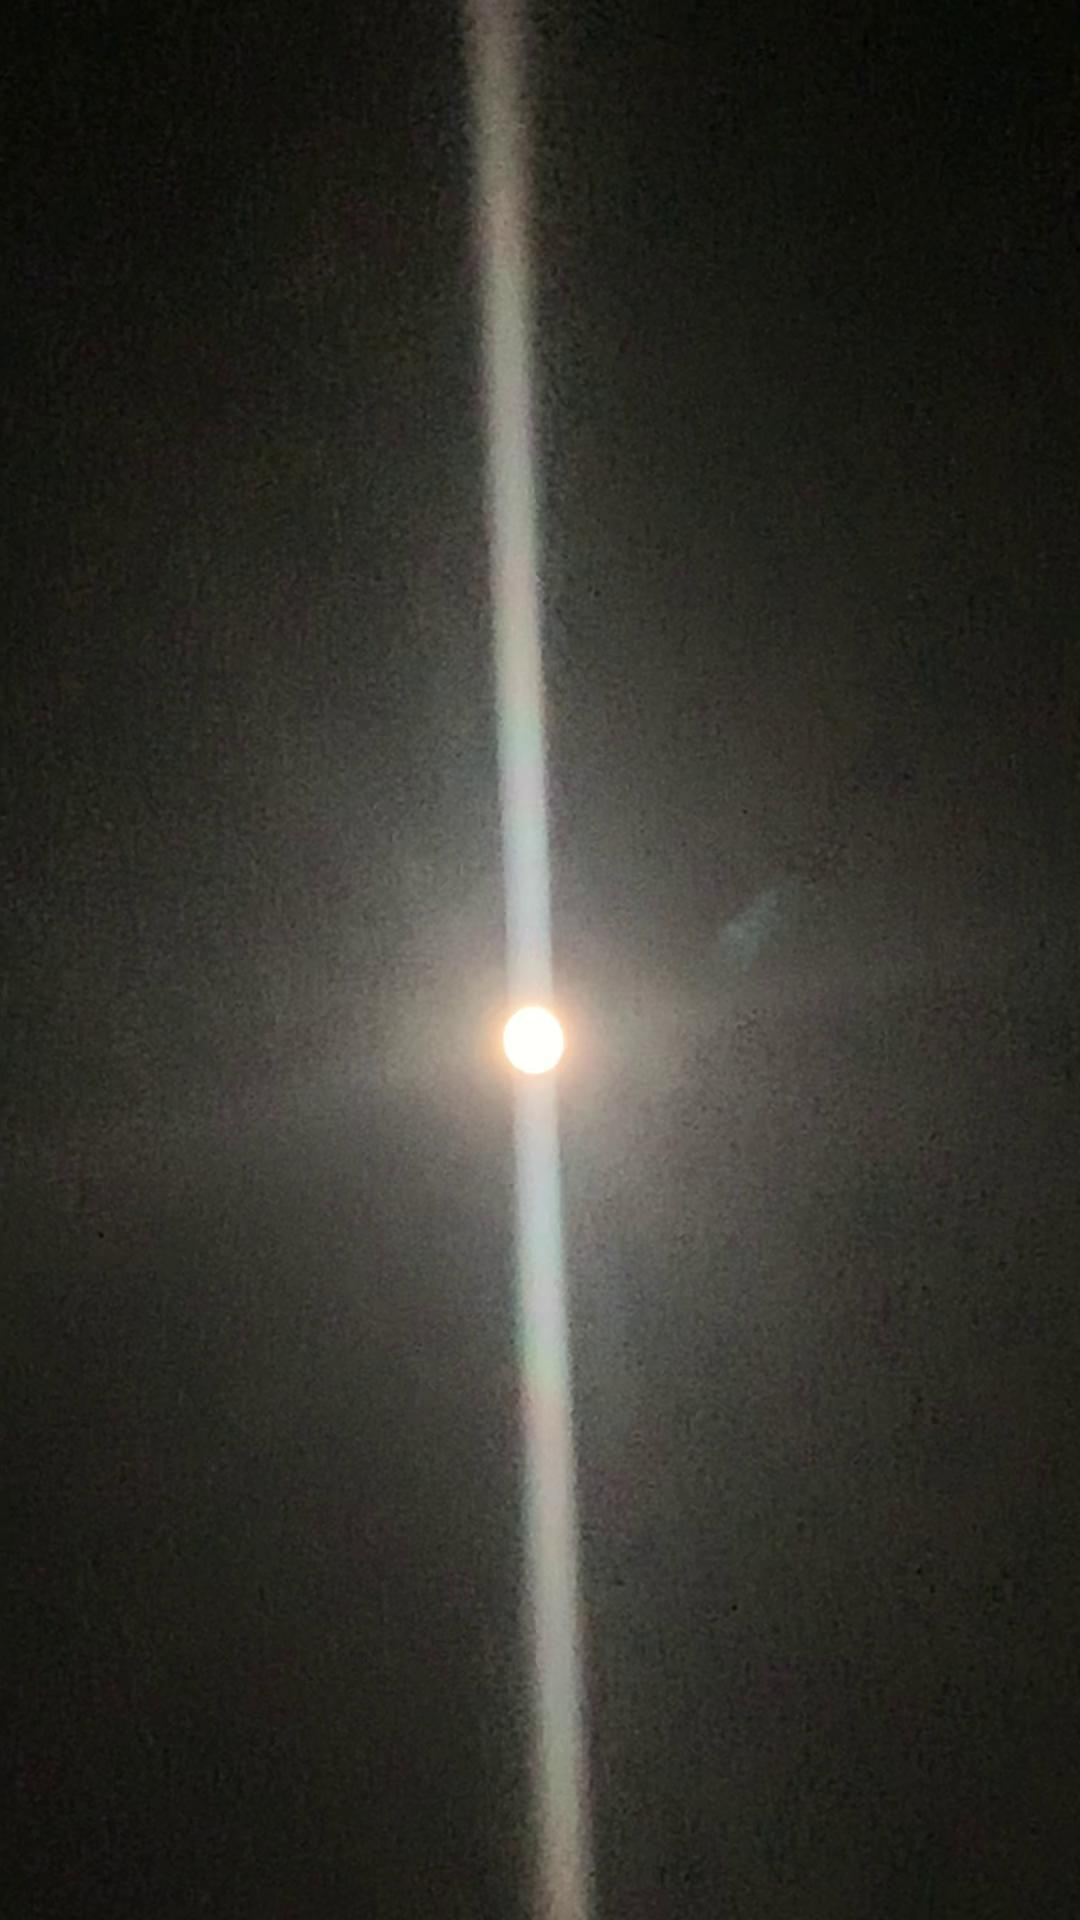moon: (483, 989, 588, 1096)
